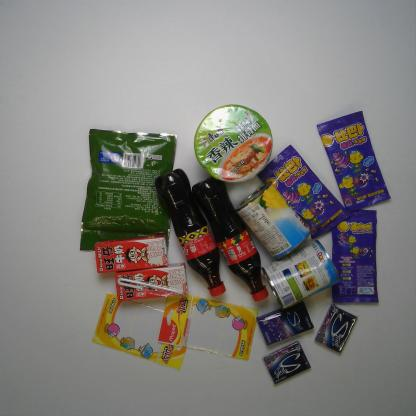Candy: (255, 143, 349, 239), (314, 106, 393, 216), (326, 205, 381, 308)
Canned Food: (236, 180, 315, 261), (257, 238, 344, 311)
Dried Fruit: (75, 125, 180, 250)
Drink: (190, 171, 276, 305), (154, 169, 228, 300)
Gum: (252, 299, 314, 345), (313, 302, 358, 352), (262, 340, 312, 384)
Instant Noodles: (193, 105, 274, 182)
Milk: (110, 261, 193, 305), (90, 232, 170, 276)
Stationery: (89, 291, 192, 373), (155, 292, 262, 360)
